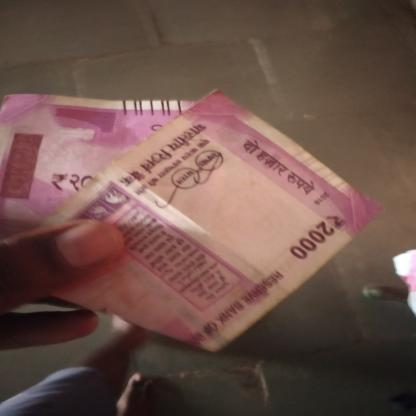New2000Back: (79, 121, 339, 333)
